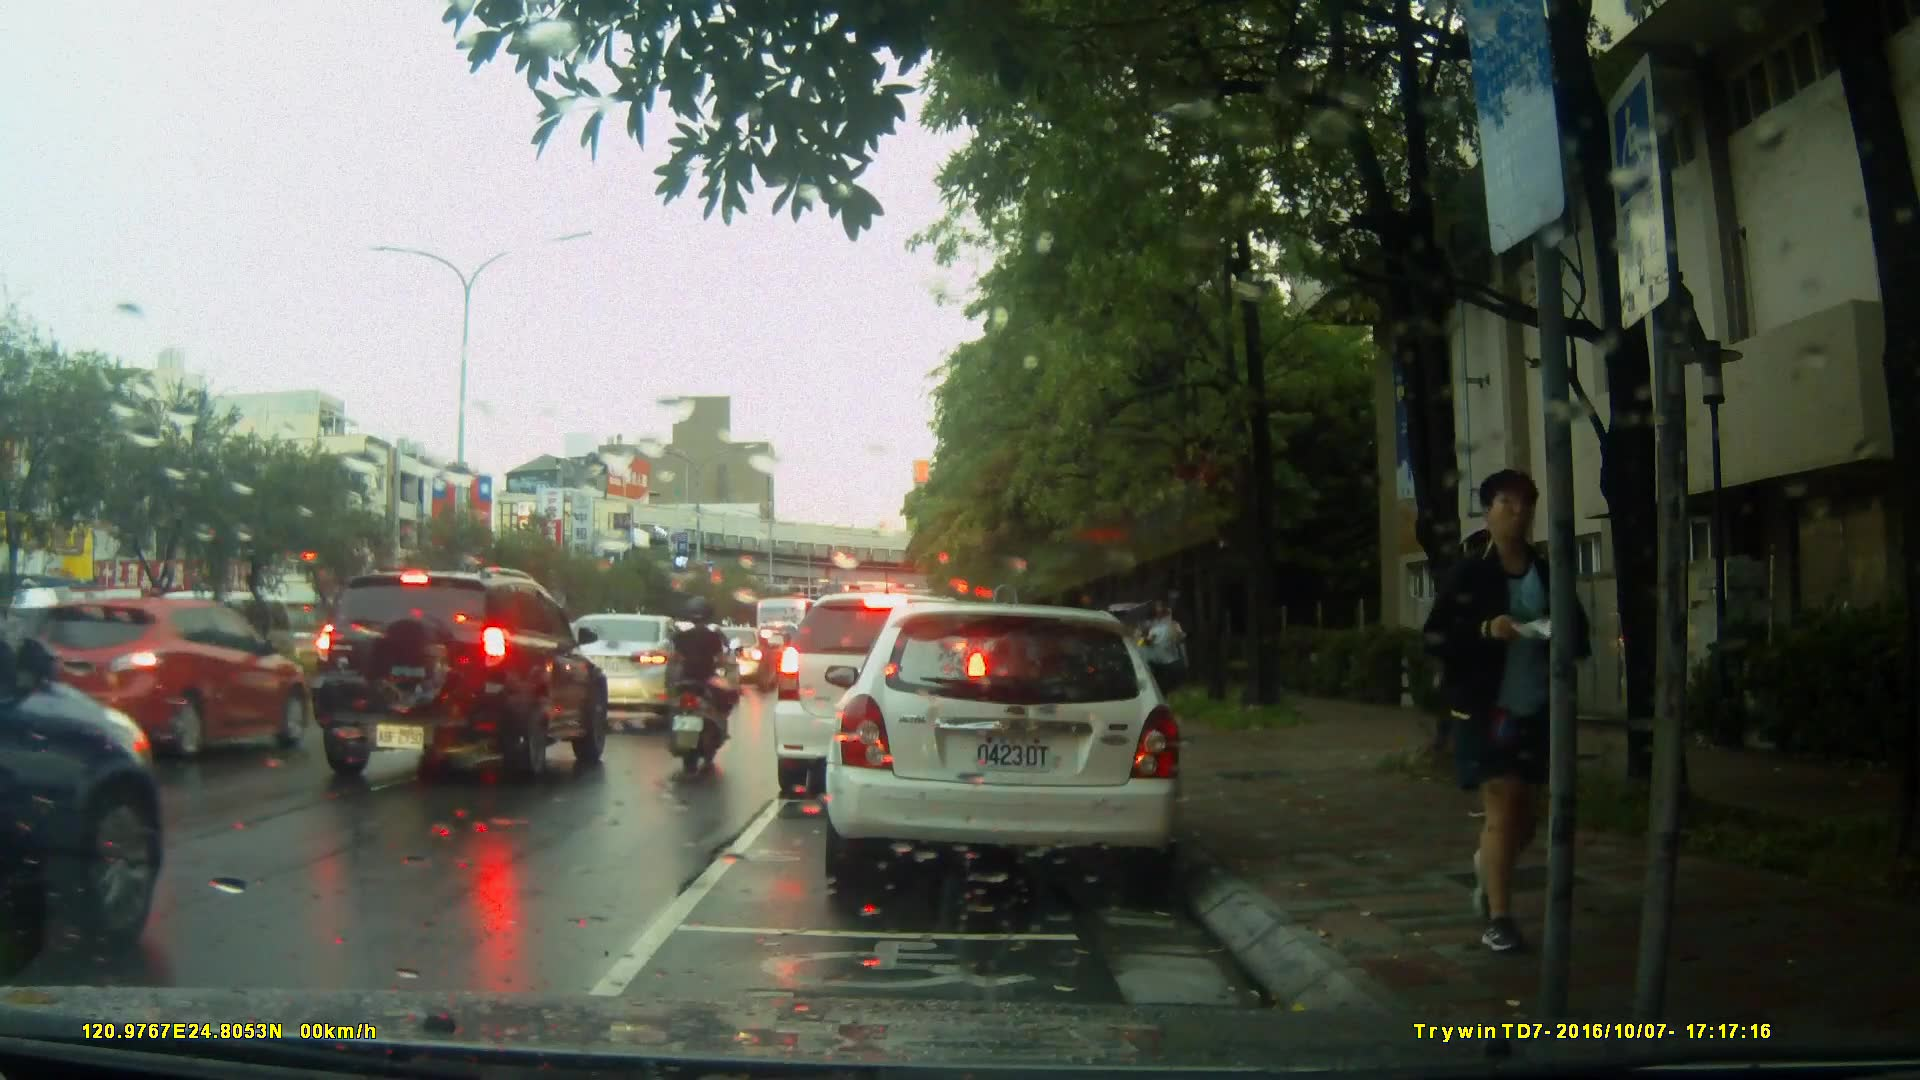pedestrian: (1453, 458, 1609, 944), (1440, 516, 1538, 821), (1135, 588, 1190, 730)
rider: (664, 595, 753, 777)
vehicle: (815, 593, 1201, 900), (1, 543, 166, 967), (302, 565, 611, 790), (24, 594, 301, 771), (771, 590, 995, 802), (533, 611, 703, 736), (701, 626, 770, 684)
